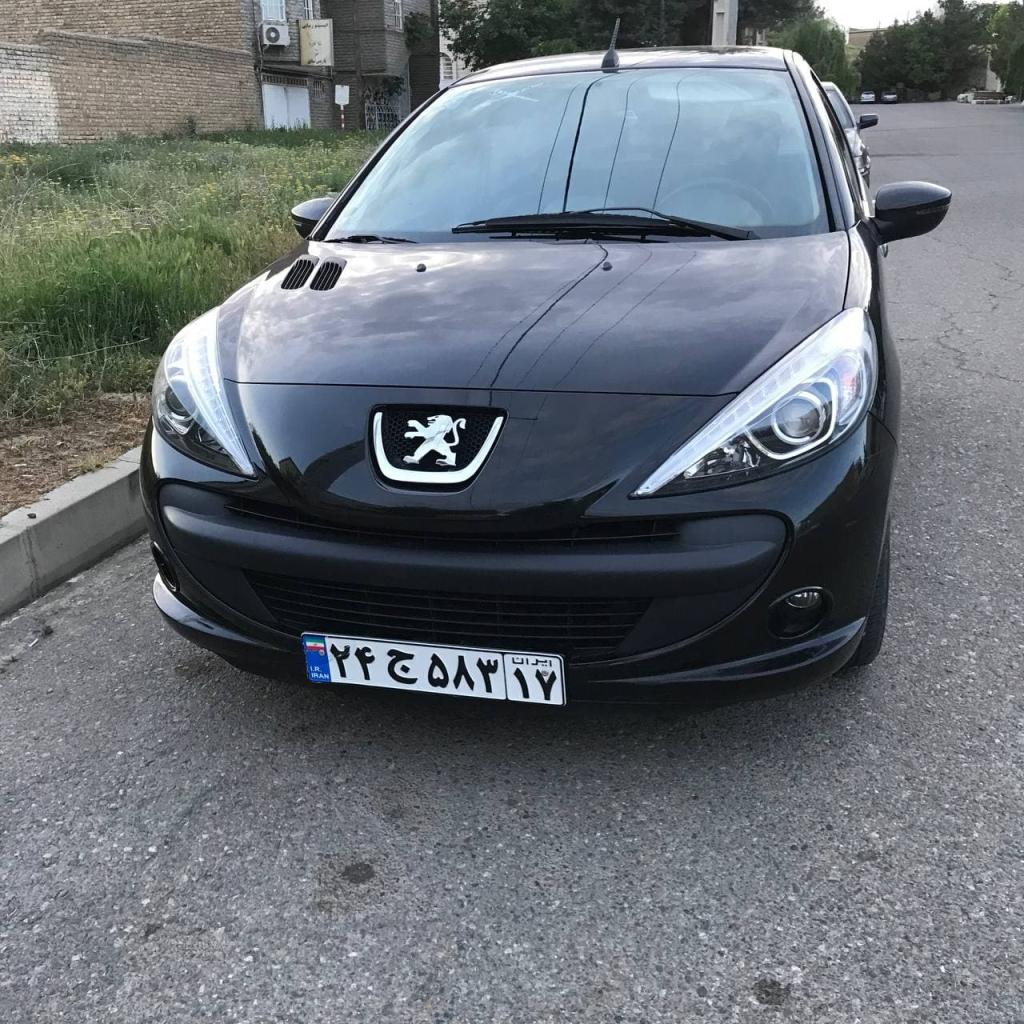Plates: (301, 634, 564, 705)
